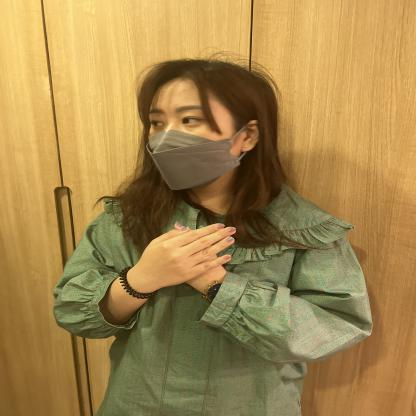Grieve: (67, 209, 280, 302)
